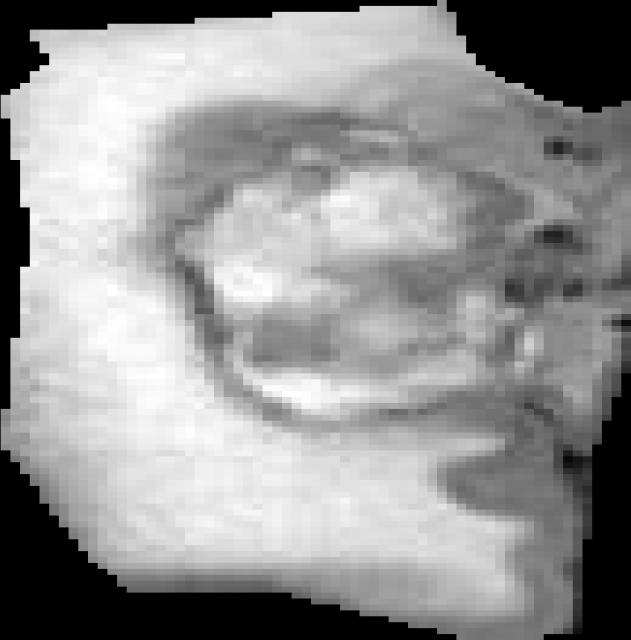tumor_less_chance: (1, 0, 631, 640)
